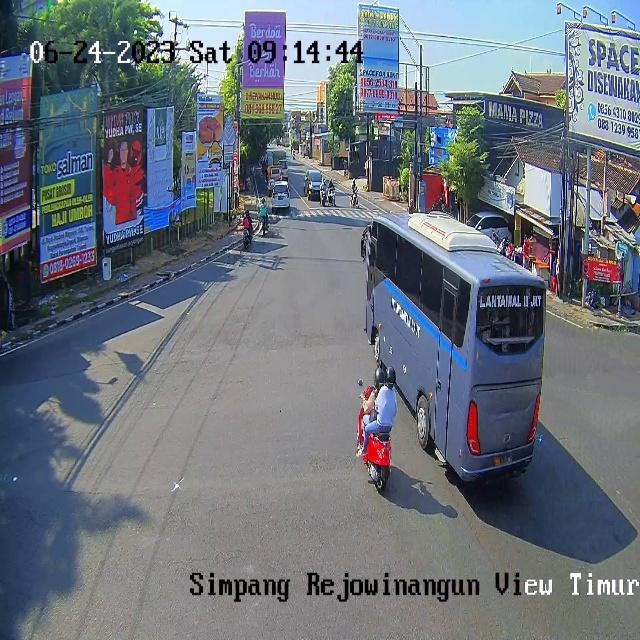bus: (360, 382, 392, 494), (242, 228, 254, 248), (260, 218, 268, 236), (319, 186, 326, 205), (352, 189, 358, 208), (330, 187, 336, 206)
car: (366, 212, 548, 478)
motorcycle: (466, 212, 511, 241), (271, 180, 290, 210), (306, 170, 324, 198), (267, 166, 282, 190), (277, 160, 290, 184)
